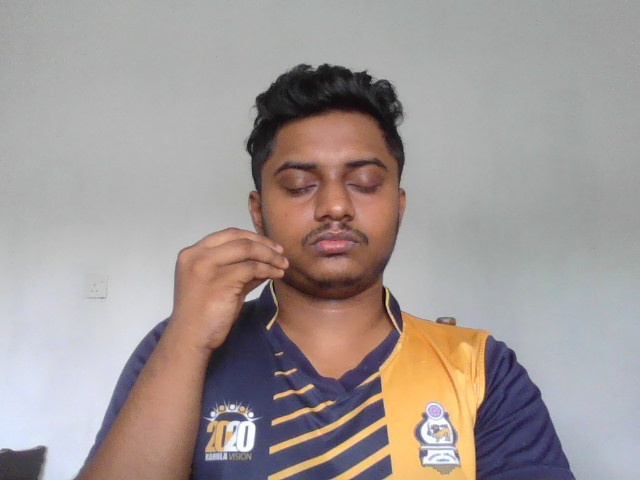Eat: (175, 223, 289, 355)
